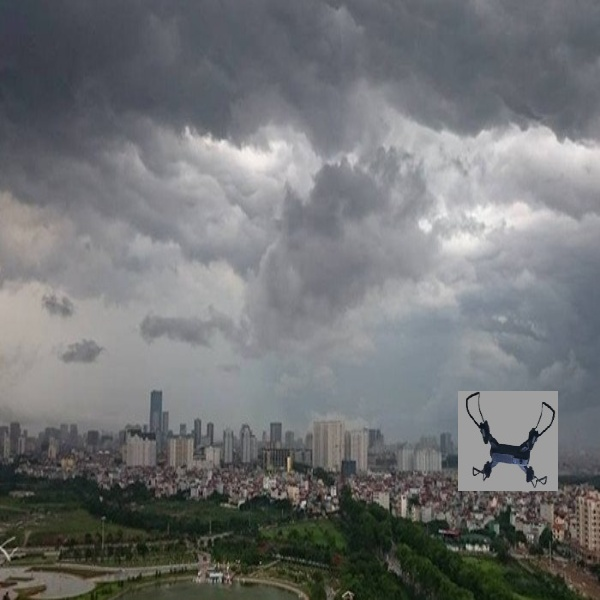drone: (456, 389, 556, 490)
